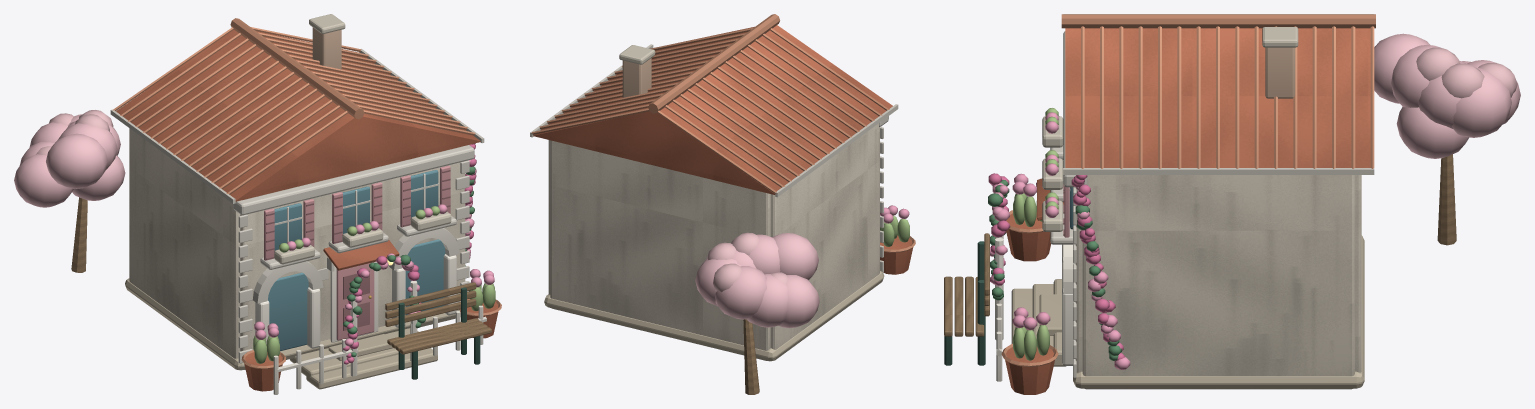
File: home.glb
The picture shows the model from 3 angles, left to right: view 1: azimuth 30°, elevation 25°; view 2: azimuth 150°, elevation 25°; view 3: azimuth 270°, elevation 25°; orthographic projection. The views are drawn at different scales.
Visible parts, largest first — view 1: home_static, home_home_roof, home_home_front; view 2: home_static, home_home_roof, home_home_front; view 3: home_static, home_home_roof, home_home_front.
Part boxes in pixels (bbox=[...]): home_static: bbox=[14, 110, 501, 394]; home_home_roof: bbox=[110, 14, 484, 203]; home_home_front: bbox=[233, 145, 474, 369]; home_static: bbox=[544, 123, 915, 394]; home_home_roof: bbox=[530, 14, 898, 197]; home_home_front: bbox=[879, 116, 888, 272]; home_static: bbox=[944, 33, 1520, 394]; home_home_roof: bbox=[1061, 14, 1375, 174]; home_home_front: bbox=[1037, 31, 1087, 377].
Size of the model in its own units: 5.38 by 4.22 by 6.57.
Materials: 8 (3 with a texture image).
